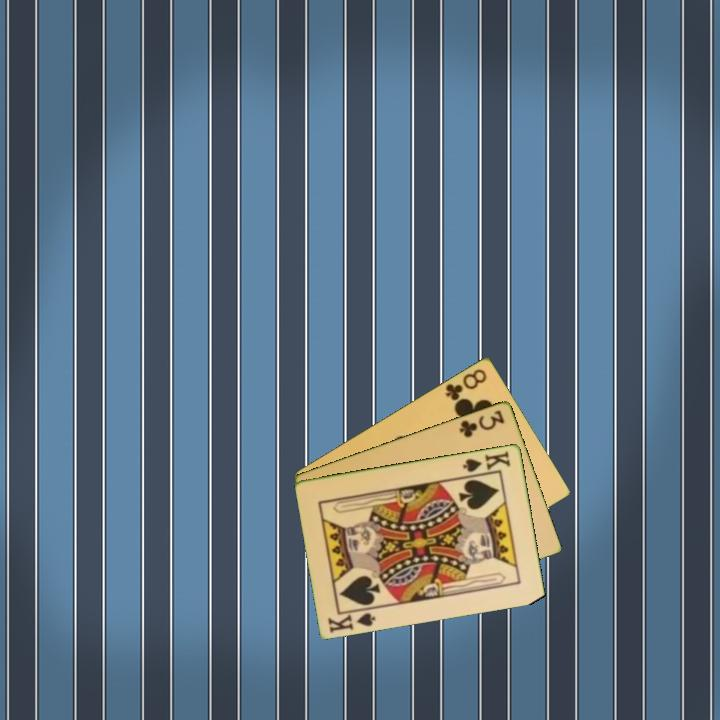3c: (456, 406, 508, 440)
8c: (442, 365, 490, 403)
Ks: (325, 604, 378, 635), (459, 447, 513, 475)
